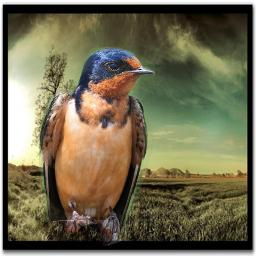Swallow: (39, 47, 155, 246)
